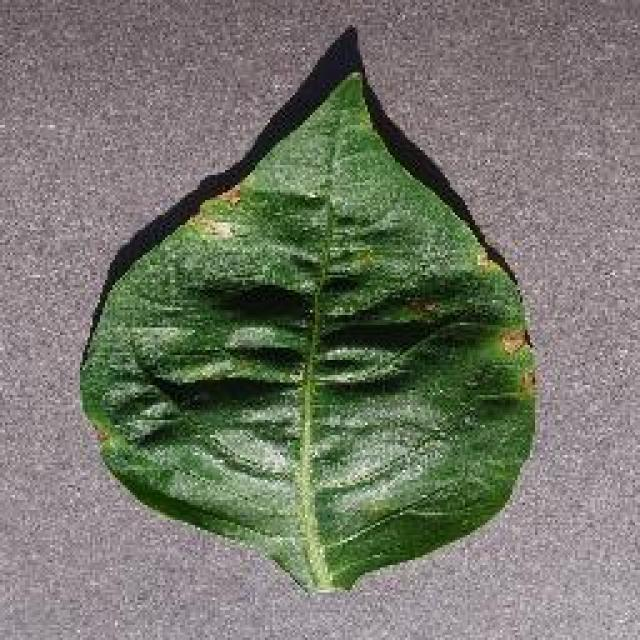Chilli_Bacterial_Spot: (75, 28, 543, 598), (182, 177, 248, 245), (400, 290, 442, 322), (495, 322, 530, 360), (213, 180, 245, 210), (470, 243, 500, 275), (512, 365, 540, 397)
